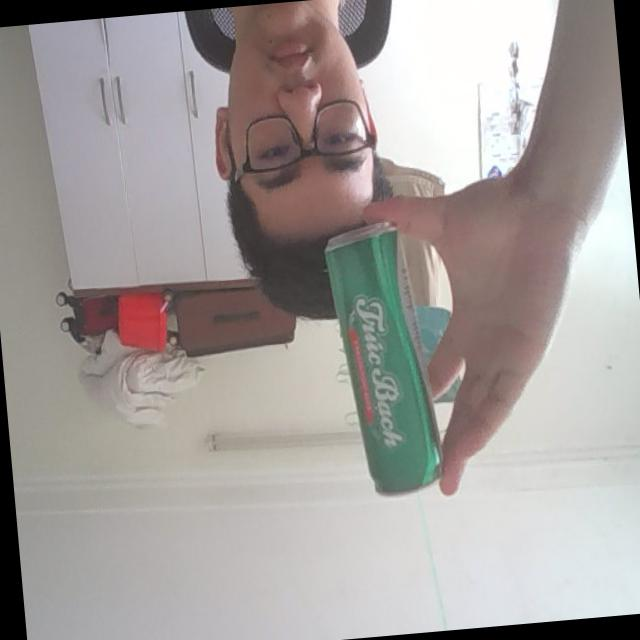Bia-Truc-Bach: (320, 220, 449, 503)
